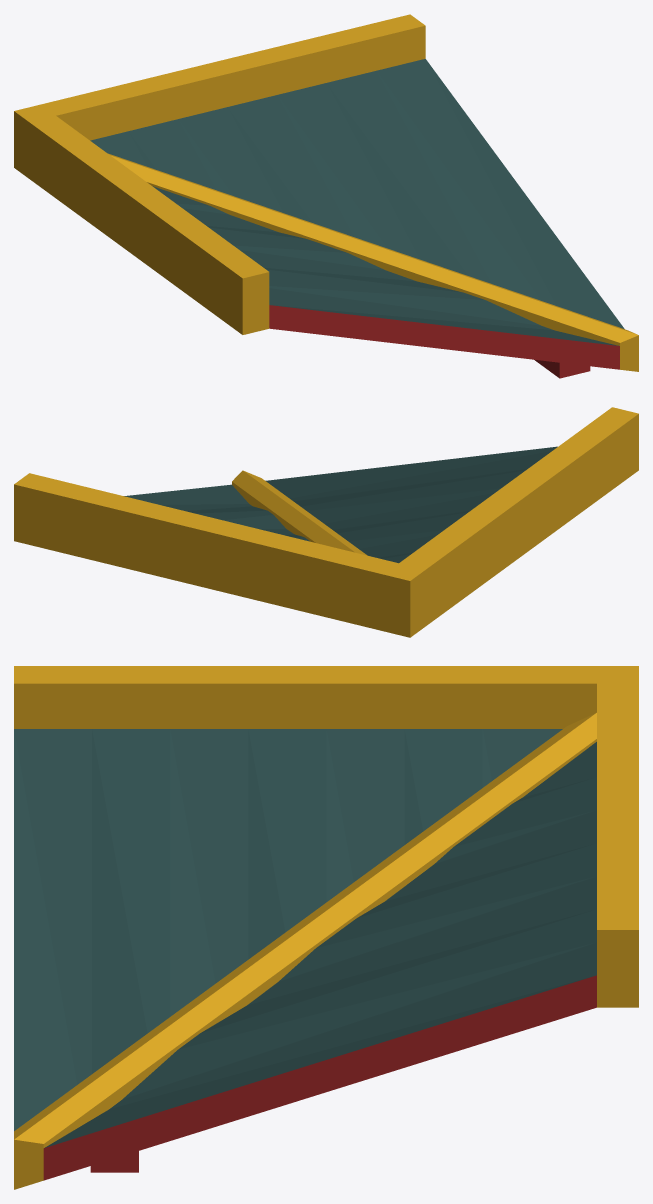
Rendered from Asian_Prop_Building_Modular_Roof_Corner_Inner_01.FBX.
The picture shows the model from 3 angles, top to bottom: view 1: azimuth 30°, elevation 25°; view 2: azimuth 150°, elevation 25°; view 3: azimuth 270°, elevation 25°; orthographic projection. The views are drawn at different scales.
Visible parts, largest first — view 1: Asian_Prop_Building_Modular_Roof_Corner_Inner_01; view 2: Asian_Prop_Building_Modular_Roof_Corner_Inner_01; view 3: Asian_Prop_Building_Modular_Roof_Corner_Inner_01.
Part boxes in pixels (x1,y1,x2,y2): Asian_Prop_Building_Modular_Roof_Corner_Inner_01: (14, 14, 638, 378); Asian_Prop_Building_Modular_Roof_Corner_Inner_01: (14, 407, 638, 637); Asian_Prop_Building_Modular_Roof_Corner_Inner_01: (14, 666, 638, 1189).
Bounding box in the file's own units: 6459 × 2963 × 6459.
